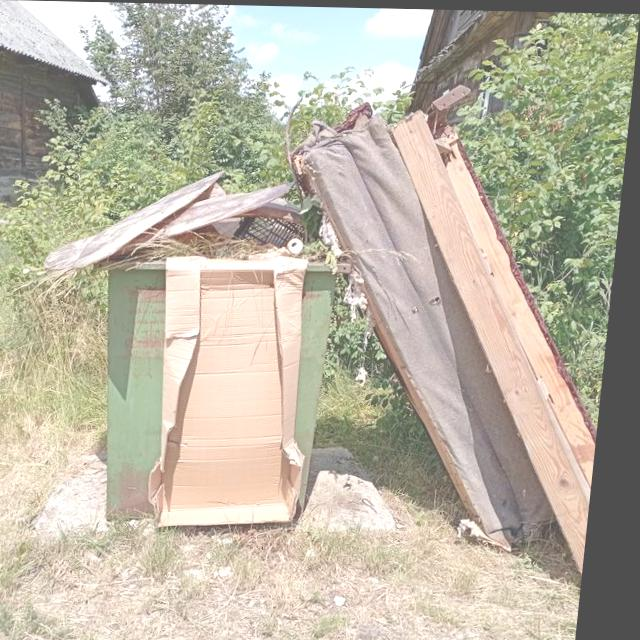Trash_Can_Full: (95, 168, 357, 529)
